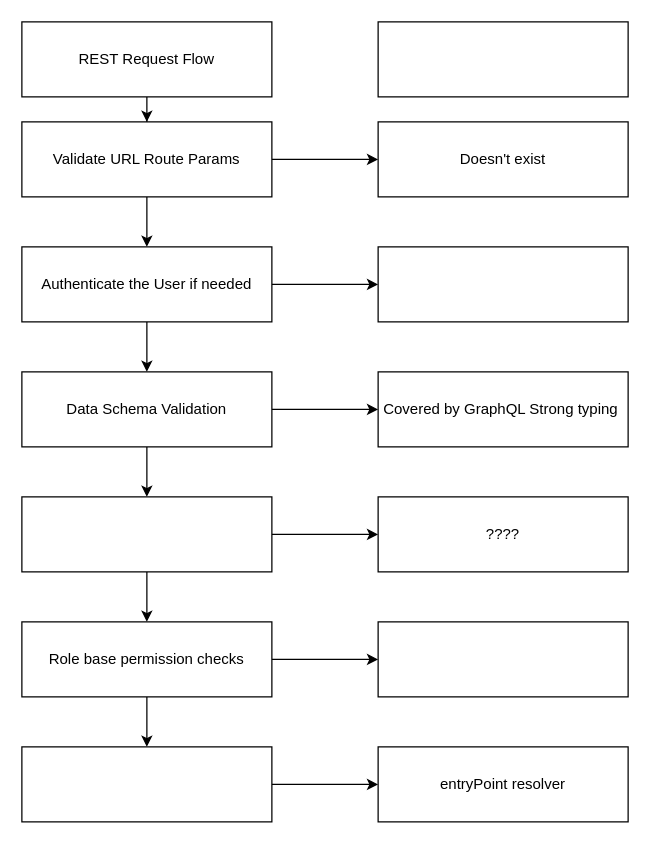
The diagram is 650 pixels wide and 844 high, and some of its shapes have lost their labels. Each missing label, with the centre of its shape:
??? (Context loader): (502,659)
Context loader: (502,284)
Custom Route Middleware: (146,534)
GraphQL Request Flow: (502,59)
Perform Controller Action: (146,784)
